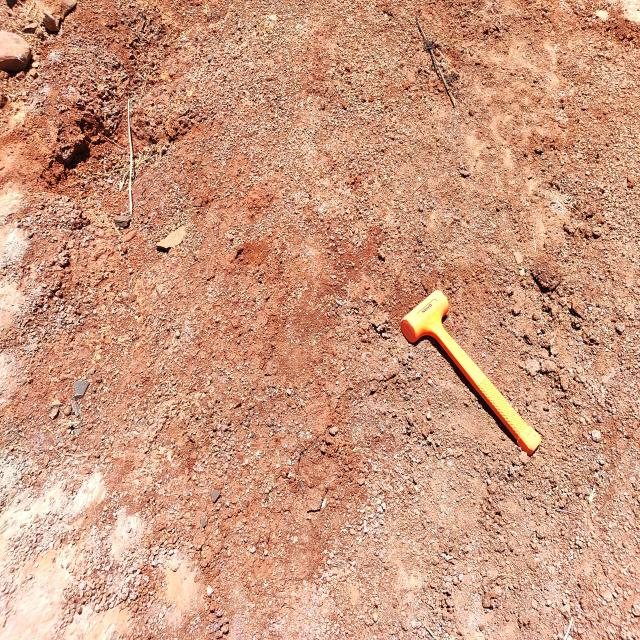Orange_hammer: (399, 288, 542, 457)
